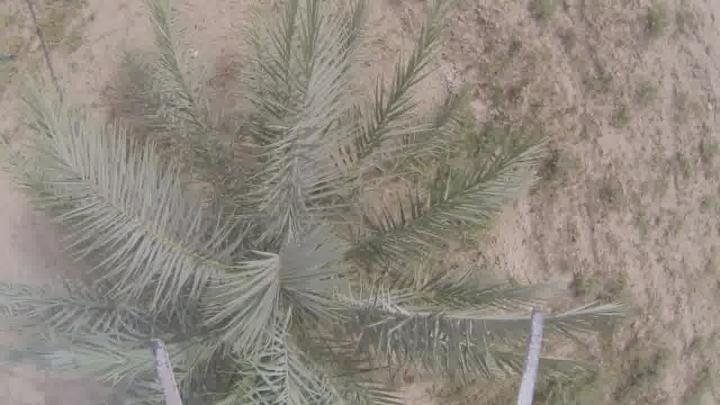Date-Palm-Crown: (102, 133, 424, 405)
